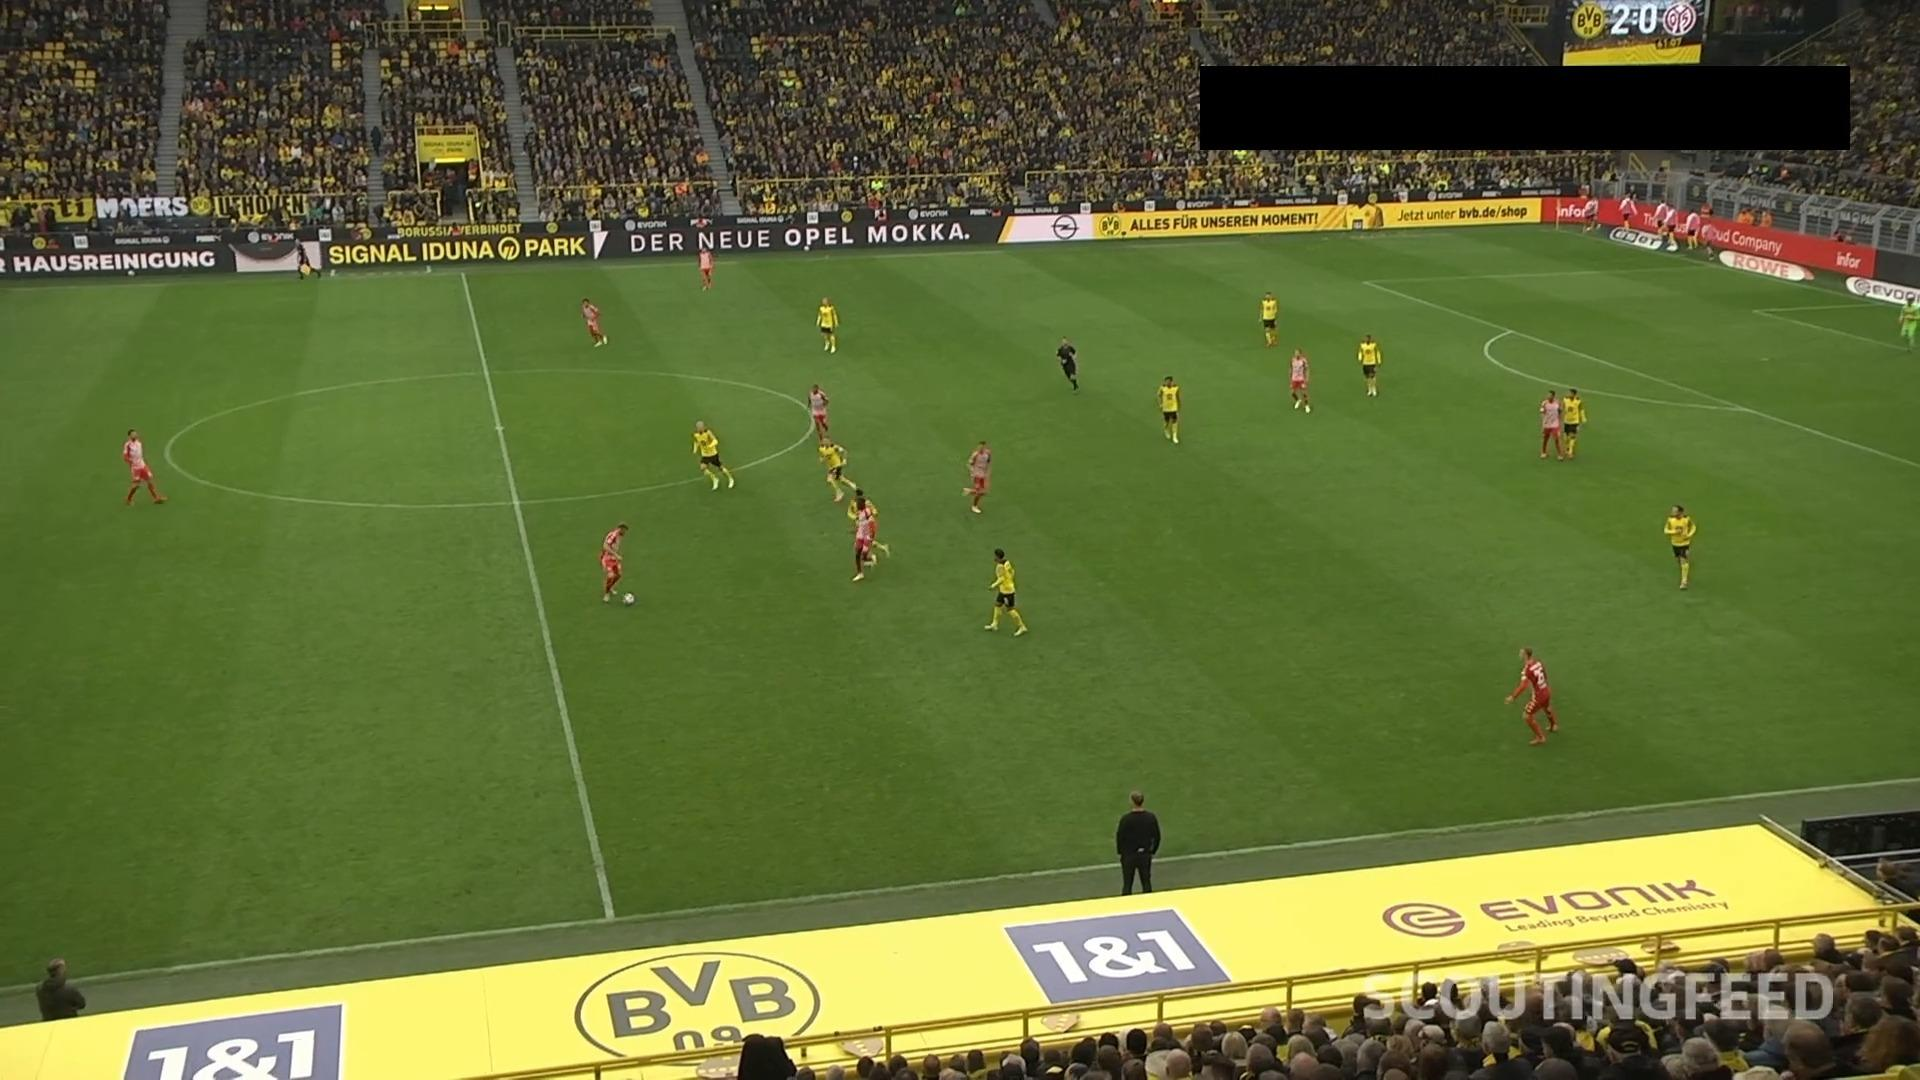ball: (620, 591, 636, 607)
